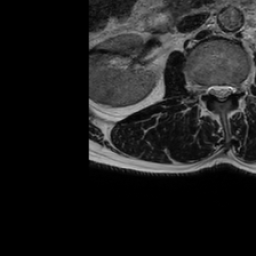CCS_normal: (216, 76, 226, 107)
LFS_normal: (234, 76, 243, 99)
LLS_normal: (226, 76, 234, 102)
RFS_normal: (200, 76, 208, 101)
RLS_normal: (208, 77, 216, 104)
